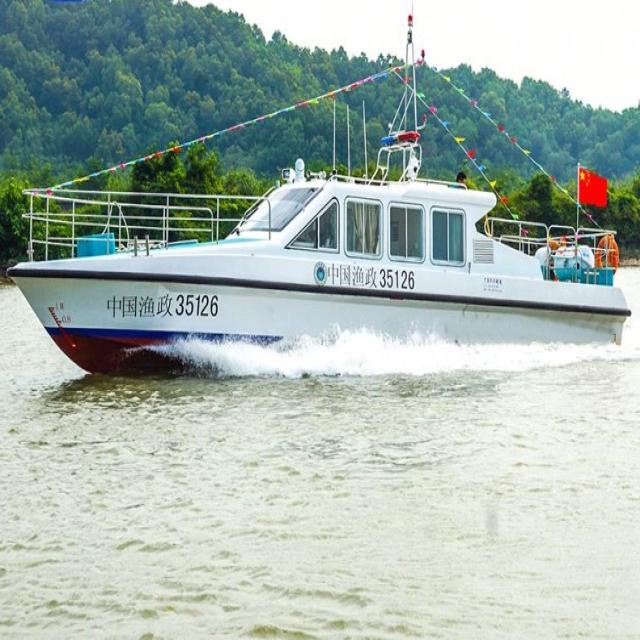houseboat: (16, 162, 618, 372)
